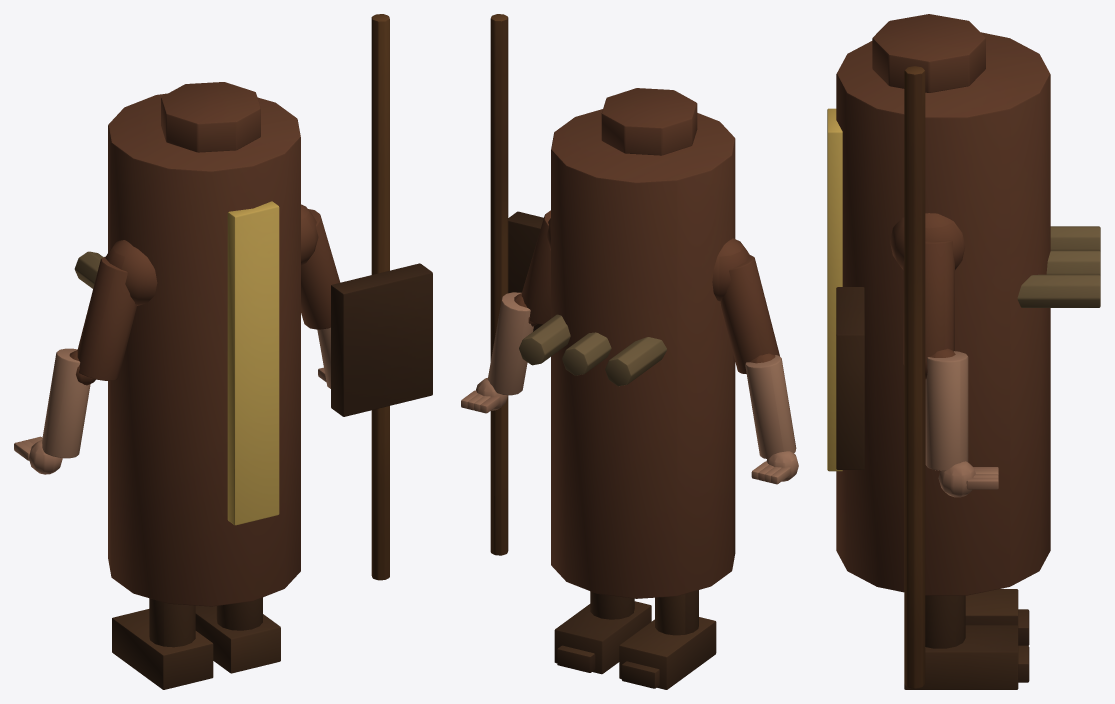
File: unit_university_archivist.fbx
The picture shows the model from 3 angles, left to right: view 1: azimuth 30°, elevation 25°; view 2: azimuth 150°, elevation 25°; view 3: azimuth 270°, elevation 25°; orthographic projection. The views are drawn at different scales.
Parts seen in each view (by area): view 1: unit_university_archivist; view 2: unit_university_archivist; view 3: unit_university_archivist.
Part boxes in pixels (x1=…): unit_university_archivist: x1=14, y1=14, x2=432, y2=689; unit_university_archivist: x1=461, y1=14, x2=798, y2=689; unit_university_archivist: x1=827, y1=14, x2=1100, y2=689.
Bounding box in the file's own units: 1.23 × 2.09 × 0.765.
